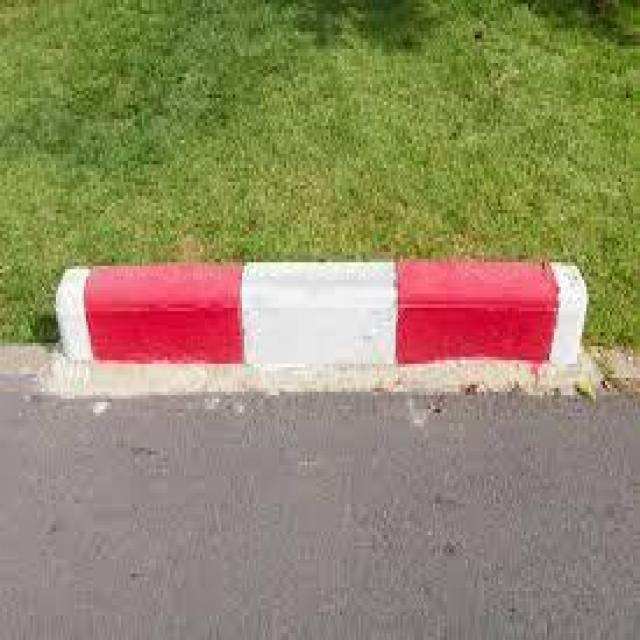bump: (35, 202, 623, 384)
